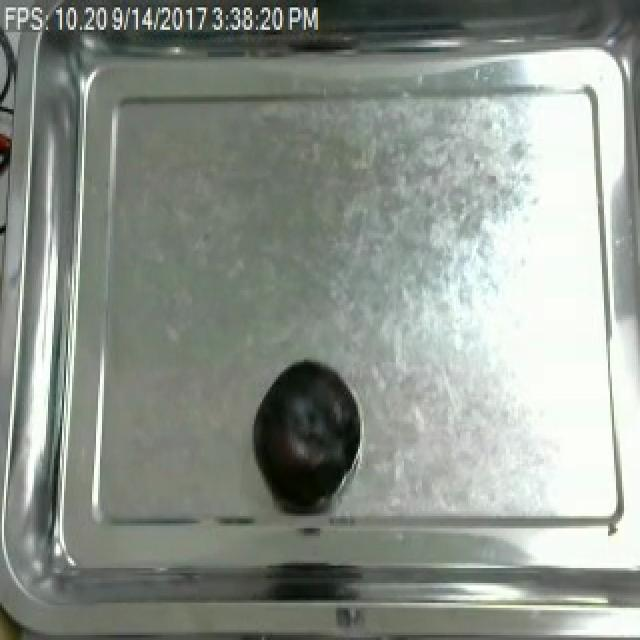Fruit: (248, 354, 362, 494)
